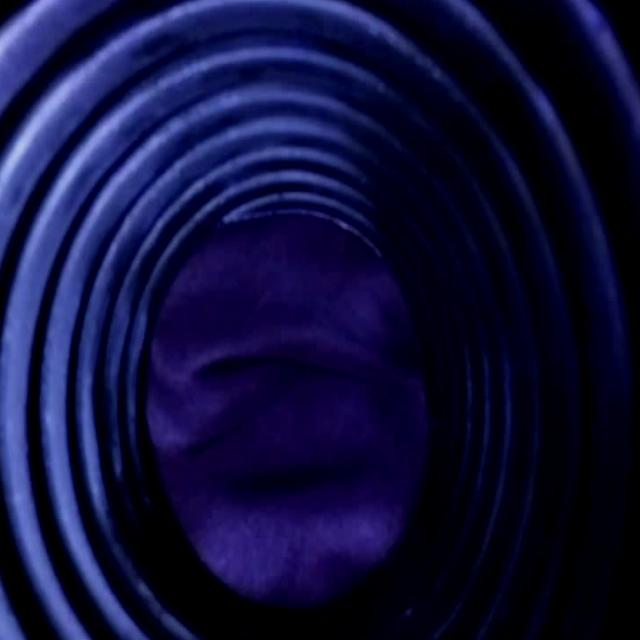block: (142, 215, 431, 612)
